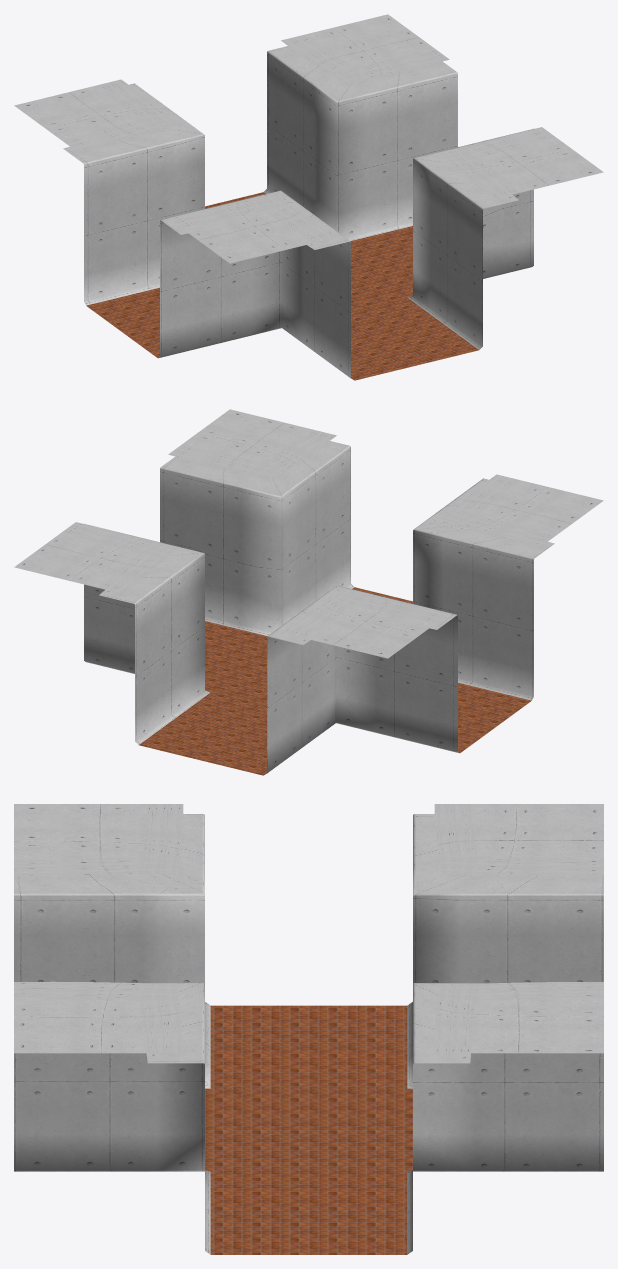
Rendered from jujiro.fbx.
3 renders of one model, top to bottom at view 1: azimuth 30°, elevation 25°; view 2: azimuth 150°, elevation 25°; view 3: azimuth 270°, elevation 25°, orthographic. The views are drawn at different scales.
Visible parts, largest first — view 1: blockA7, pPlane1 (×4), blockA9, blockA8, blockA1, floorA; view 2: blockA1, pPlane1 (×4), blockA8, blockA9, blockA7, floorA; view 3: floorA, pPlane1 (×4), blockA1, blockA7, blockA8, blockA9.
Boxes of the visible parts, box(x1,y1,x2,y2) form: blockA7: box(263, 46, 457, 241); pPlane1 (×4): box(14, 14, 603, 263); blockA9: box(158, 190, 352, 379); blockA8: box(63, 83, 204, 305); blockA1: box(407, 128, 534, 349); floorA: box(86, 192, 478, 380); blockA1: box(160, 441, 354, 636); pPlane1 (×4): box(14, 409, 603, 658); blockA8: box(265, 585, 459, 774); blockA9: box(413, 478, 554, 700); blockA7: box(83, 523, 210, 744); floorA: box(139, 587, 531, 775); floorA: box(205, 1005, 412, 1254); pPlane1 (×4): box(14, 804, 603, 1053); blockA1: box(14, 983, 210, 1254); blockA7: box(407, 983, 603, 1254); blockA8: box(407, 814, 603, 1088); blockA9: box(14, 814, 210, 1088).
Bounding box in the file's own units: 900 × 339 × 900.
